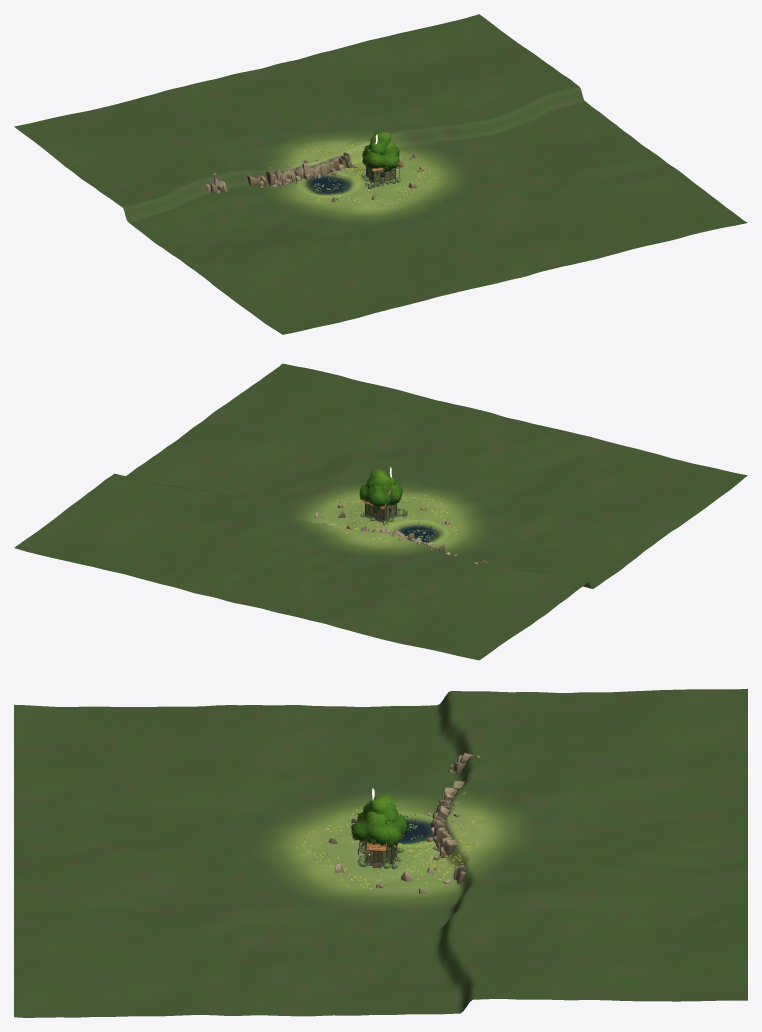
The picture shows the model from 3 angles, top to bottom: view 1: azimuth 30°, elevation 25°; view 2: azimuth 150°, elevation 25°; view 3: azimuth 270°, elevation 25°; orthographic projection. The views are drawn at different scales.
Parts seen in each view (by area): view 1: Terrain, Rocks, PondWater; view 2: Terrain, Rocks; view 3: Terrain, Rocks, TreeBroad_green_L1, TreeBroad_green_L0, MeadowFlowers, House_Wood, PondWater.
Boxes of the visible parts, x1,y1,x2,y2 form: Terrain: (14,14,747,334); Rocks: (205,152,424,202); PondWater: (307,176,348,194); Terrain: (14,363,747,660); Rocks: (315,503,492,564); Terrain: (14,689,747,1017); Rocks: (328,752,480,893); TreeBroad_green_L1: (351,812,408,847); TreeBroad_green_L0: (351,811,407,847); MeadowFlowers: (296,809,482,888); House_Wood: (357,839,397,868); PondWater: (398,820,432,843).
Size of the model in its own units: 110 by 12.4 by 110.
